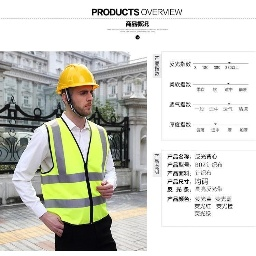helmet: (53, 66, 100, 99)
person: (25, 67, 119, 251)
vest: (41, 110, 113, 219)
